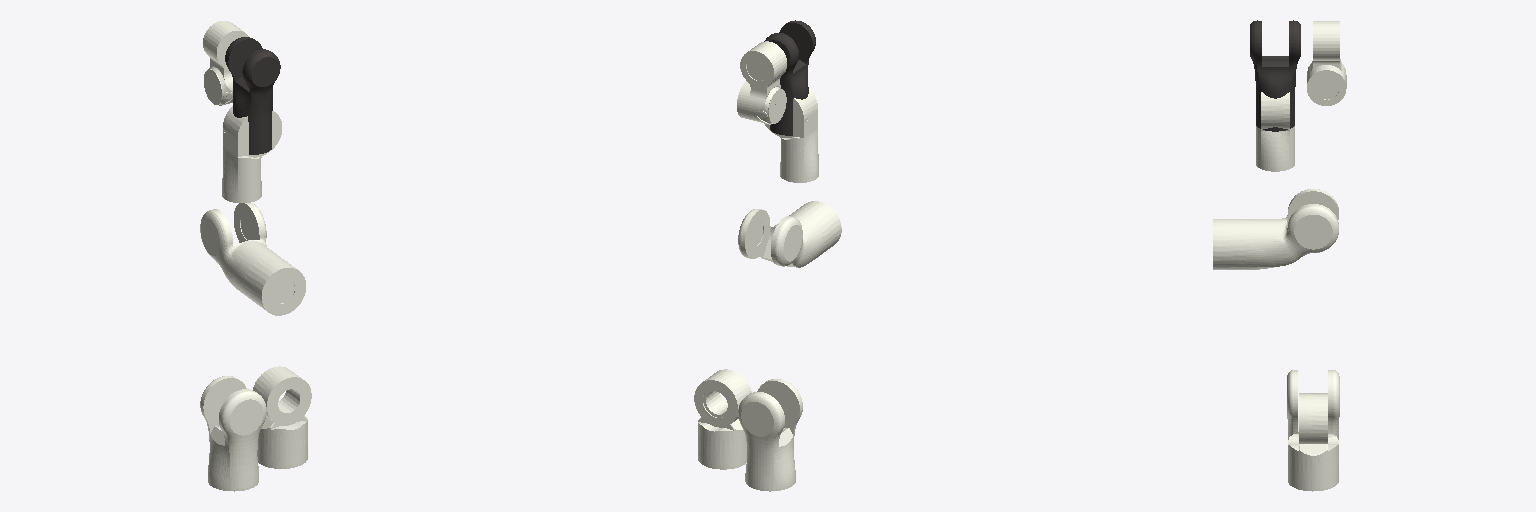
robot.urdf — rm_eco65_description:
<?xml version="1.0" encoding="utf-8"?>
<robot
  name="rm_eco65_description">
  <link
    name="baselink">
    <inertial>
      <origin
        xyz="0.00059982 -9.2932E-05 0.043301"
        rpy="0 0 0" />
      <mass
        value="0.61127" />
      <inertia
        ixx="0.00080212"
        ixy="3.0281E-06"
        ixz="-2.8747E-05"
        iyy="0.00080502"
        iyz="1.9749E-06"
        izz="0.00066167" />
    </inertial>
    <visual>
      <origin
        xyz="0 0 0"
        rpy="0 0 0" />
      <geometry>
        <mesh
          filename="package://rm_description/meshes/rm_eco65_arm/baselink.STL" />
      </geometry>
      <material
        name="">
        <color
          rgba="1 1 0.9451 1" />
      </material>
    </visual>
    <collision>
      <origin
        xyz="0 0 0"
        rpy="0 0 0" />
      <geometry>
        <mesh
          filename="package://rm_description/meshes/rm_eco65_arm/baselink.STL" />
      </geometry>
    </collision>
  </link>
  <link
    name="Link1">
    <inertial>
      <origin
        xyz="-0.022858 -2.0784E-06 -0.013658"
        rpy="0 0 0" />
      <mass
        value="0.74247" />
      <inertia
        ixx="0.00081398"
        ixy="-1.9024E-05"
        ixz="0.00022746"
        iyy="0.001848"
        iyz="2.0444E-06"
        izz="0.0015286" />
    </inertial>
    <visual>
      <origin
        xyz="0 0 0"
        rpy="0 0 0" />
      <geometry>
        <mesh
          filename="package://rm_description/meshes/rm_eco65_arm/Link1.STL" />
      </geometry>
      <material
        name="">
        <color
          rgba="1 1 0.9451 1" />
      </material>
    </visual>
    <collision>
      <origin
        xyz="0 0 0"
        rpy="0 0 0" />
      <geometry>
        <mesh
          filename="package://rm_description/meshes/rm_eco65_arm/Link1.STL" />
      </geometry>
    </collision>
  </link>
  <joint
    name="joint1"
    type="revolute">
    <origin
      xyz="0 0 0.1625"
      rpy="0 0 0" />
    <parent
      link="baselink" />
    <child
      link="Link1" />
    <axis
      xyz="0 0 1" />
    <limit
      lower="-3.1067"
      upper="3.1067"
      effort="100"
      velocity="3.14" />
  </joint>
  <link
    name="Link2">
    <inertial>
      <origin
        xyz="-1.6049E-06 0.10336 0.067332"
        rpy="0 0 0" />
      <mass
        value="1.3502" />
      <inertia
        ixx="0.012821"
        ixy="-7.2979E-08"
        ixz="1.1499E-08"
        iyy="0.0011237"
        iyz="-0.00033755"
        izz="0.012933" />
    </inertial>
    <visual>
      <origin
        xyz="0 0 0"
        rpy="0 0 0" />
      <geometry>
        <mesh
          filename="package://rm_description/meshes/rm_eco65_arm/Link2.STL" />
      </geometry>
      <material
        name="">
        <color
          rgba="1 1 0.9451 1" />
      </material>
    </visual>
    <collision>
      <origin
        xyz="0 0 0"
        rpy="0 0 0" />
      <geometry>
        <mesh
          filename="package://rm_description/meshes/rm_eco65_arm/Link2.STL" />
      </geometry>
    </collision>
  </link>
  <joint
    name="joint2"
    type="revolute">
    <origin
      xyz="-0.086 0 0"
      rpy="1.5708 0 0" />
    <parent
      link="Link1" />
    <child
      link="Link2" />
    <axis
      xyz="0 0 -1" />
    <limit
      lower="-3.1067"
      upper="2.3562"
      effort="100"
      velocity="3.14" />
  </joint>
  <link
    name="Link3">
    <inertial>
      <origin
        xyz="0.10374 7.0495E-07 0.018599"
        rpy="0 0 0" />
      <mass
        value="1.0422" />
      <inertia
        ixx="0.00084115"
        ixy="-2.2514E-08"
        ixz="-0.00068613"
        iyy="0.0094046"
        iyz="-3.3287E-09"
        izz="0.0092482" />
    </inertial>
    <visual>
      <origin
        xyz="0 0 0"
        rpy="0 0 0" />
      <geometry>
        <mesh
          filename="package://rm_description/meshes/rm_eco65_arm/Link3.STL" />
      </geometry>
      <material
        name="">
        <color
          rgba="1 1 0.9451 1" />
      </material>
    </visual>
    <collision>
      <origin
        xyz="0 0 0"
        rpy="0 0 0" />
      <geometry>
        <mesh
          filename="package://rm_description/meshes/rm_eco65_arm/Link3.STL" />
      </geometry>
    </collision>
  </link>
  <joint
    name="joint3"
    type="revolute">
    <origin
      xyz="0 0.26 0"
      rpy="3.1416 0 1.5708" />
    <parent
      link="Link2" />
    <child
      link="Link3" />
    <axis
      xyz="0 0 1" />
    <limit
      lower="-2.7925"
      upper="2.5307"
      effort="100"
      velocity="3.92" />
  </joint>
  <link
    name="Link4">
    <inertial>
      <origin
        xyz="-0.0069819 -0.016328 0.0067416"
        rpy="0 0 0" />
      <mass
        value="0.27383" />
      <inertia
        ixx="0.00024751"
        ixy="-5.6849E-09"
        ixz="5.4838E-10"
        iyy="0.00017648"
        iyz="-2.8552E-05"
        izz="0.00019295"/>
    </inertial>
    <visual>
      <origin
        xyz="0 0 0"
        rpy="0 0 0" />
      <geometry>
        <mesh
          filename="package://rm_description/meshes/rm_eco65_arm/Link4.STL" />
      </geometry>
      <material
        name="">
        <color
          rgba="1 1 0.9451 1" />
      </material>
    </visual>
    <collision>
      <origin
        xyz="0 0 0"
        rpy="0 0 0" />
      <geometry>
        <mesh
          filename="package://rm_description/meshes/rm_eco65_arm/Link4.STL" />
      </geometry>
    </collision>
  </link>
  <joint
    name="joint4"
    type="revolute">
    <origin
      xyz="0.24 0 -0.05888"
      rpy="0 0 1.5708" />
    <parent
      link="Link3" />
    <child
      link="Link4" />
    <axis
      xyz="0 0 1" />
    <limit
      lower="-3.1067"
      upper="3.1067"
      effort="100"
      velocity="3.92" />
  </joint>
  <link
    name="Link5">
    <inertial>
      <origin
        xyz="-0.00040425 0.0066328 -0.012475"
        rpy="0 0 0" />
      <mass
        value="0.27794" />
      <inertia
        ixx="0.00024751"
        ixy="-5.6849E-09"
        ixz="5.4838E-10"
        iyy="0.00017648"
        iyz="-2.8552E-05"
        izz="0.00019295" />
    </inertial>
    <visual>
      <origin
        xyz="0 0 0"
        rpy="0 0 0" />
      <geometry>
        <mesh
          filename="package://rm_description/meshes/rm_eco65_arm/Link5.STL" />
      </geometry>
      <material
        name="">
        <color
          rgba="0.29804 0.28627 0.28235 1" />
      </material>
    </visual>
    <collision>
      <origin
        xyz="0 0 0"
        rpy="0 0 0" />
      <geometry>
        <mesh
          filename="package://rm_description/meshes/rm_eco65_arm/Link5.STL" />
      </geometry>
    </collision>
  </link>
  <joint
    name="joint5"
    type="revolute">
    <origin
      xyz="0.00040486 -0.10983 0"
      rpy="1.5708 0 0" />
    <parent
      link="Link4" />
    <child
      link="Link5" />
    <axis
      xyz="0 0 1" />
    <limit
      lower="-3.1067"
      upper="3.1067"
      effort="100"
      velocity="3.92" />
  </joint>
  <link
    name="Link6">
    <inertial>
      <origin
        xyz="0.00095587 -0.0013555 -0.010297"
        rpy="0 0 0" />
      <mass
        value="0.033025" />
      <inertia
        ixx="1.2968E-05"
        ixy="-7.8692E-07"
        ixz="8.451E-08"
        iyy="1.1583E-05"
        iyz="-1.2002E-07"
        izz="2.0405E-05" />
    </inertial>
    <visual>
      <origin
        xyz="0 0 0"
        rpy="0 0 0" />
      <geometry>
        <mesh
          filename="package://rm_description/meshes/rm_eco65_arm/Link6.STL" />
      </geometry>
      <material
        name="">
        <color
          rgba="1 1 0.9451 1" />
      </material>
    </visual>
    <collision>
      <origin
        xyz="0 0 0"
        rpy="0 0 0" />
      <geometry>
        <mesh
          filename="package://rm_description/meshes/rm_eco65_arm/Link6.STL" />
      </geometry>
    </collision>
  </link>
  <joint
    name="joint6"
    type="revolute">
    <origin
      xyz="0 0.0795 0"
      rpy="-1.5708 0 0" />
    <parent
      link="Link5" />
    <child
      link="Link6" />
    <axis
      xyz="0 0 1" />
    <limit
      lower="-6.2832"
      upper="6.2832"
      effort="100"
      velocity="3.92" />
  </joint>
</robot>

--- What the picture shows (computed from the rendered views, not written in the file) ---
3 views of the same robot in one strip: view 1: azimuth 30°, elevation 25°; view 2: azimuth 150°, elevation 25°; view 3: azimuth 270°, elevation 25° (orthographic).
Robot: rm_eco65_description — 7 links, 6 joints (6 revolute); root link baselink; default pose: all joints at 0.
Links seen in each view (by area): view 1: Link3, Link2, Link1, Link5, Link4, Link6; view 2: Link2, Link3, Link1, Link6, Link4, Link5; view 3: Link3, Link1, Link5, Link6, Link4, Link2.
Boxes of the visible links, left/top/right/bottom form: Link3: left=200, top=203, right=305, bottom=315; Link2: left=200, top=376, right=266, bottom=491; Link1: left=253, top=366, right=311, bottom=468; Link5: left=225, top=37, right=280, bottom=154; Link4: left=222, top=106, right=281, bottom=202; Link6: left=203, top=21, right=248, bottom=105; Link2: left=738, top=379, right=802, bottom=491; Link3: left=738, top=201, right=841, bottom=267; Link1: left=694, top=369, right=751, bottom=469; Link6: left=737, top=41, right=786, bottom=124; Link4: left=764, top=89, right=818, bottom=182; Link5: left=764, top=20, right=815, bottom=135; Link3: left=1213, top=189, right=1338, bottom=269; Link1: left=1288, top=393, right=1338, bottom=491; Link5: left=1250, top=20, right=1300, bottom=131; Link6: left=1307, top=21, right=1346, bottom=105; Link4: left=1256, top=92, right=1294, bottom=171; Link2: left=1287, top=370, right=1339, bottom=439.
Bounding box of the posed robot: 0.176 × 0.2071 × 0.7648 m (x, y, z).
Meshes: 7 distinct files referenced, 6 mesh visuals loaded (6 binary STL); not drawn: 1 (reference not matched to a file when rendering).